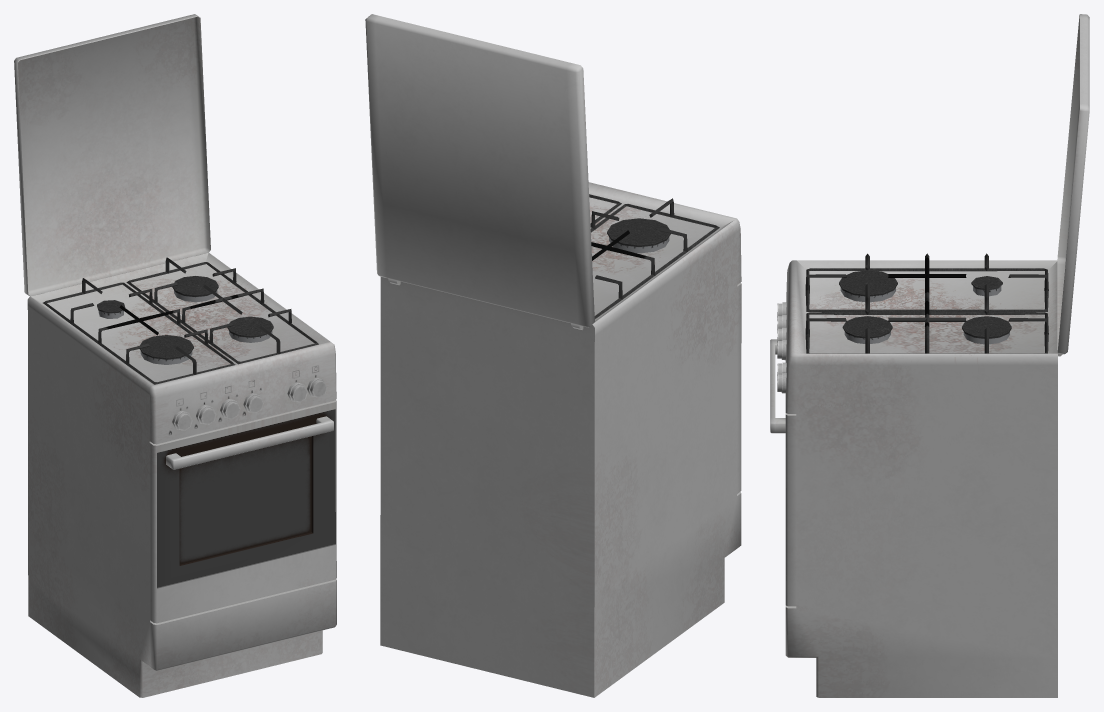
Rendered from Oven.fbx.
3 renders of one model, left to right at view 1: azimuth 30°, elevation 25°; view 2: azimuth 150°, elevation 25°; view 3: azimuth 270°, elevation 25°, orthographic. The views are drawn at different scales.
Visible parts, largest first — view 1: Object_4; view 2: Object_4; view 3: Object_4.
Boxes of the visible parts, <box> form: Object_4: <box>14,14,336,697</box>; Object_4: <box>365,14,741,697</box>; Object_4: <box>770,14,1089,697</box>.
Size of the model in its own units: 57.38 by 164 by 80.43.
Materials: 1 (1 with a texture image).
